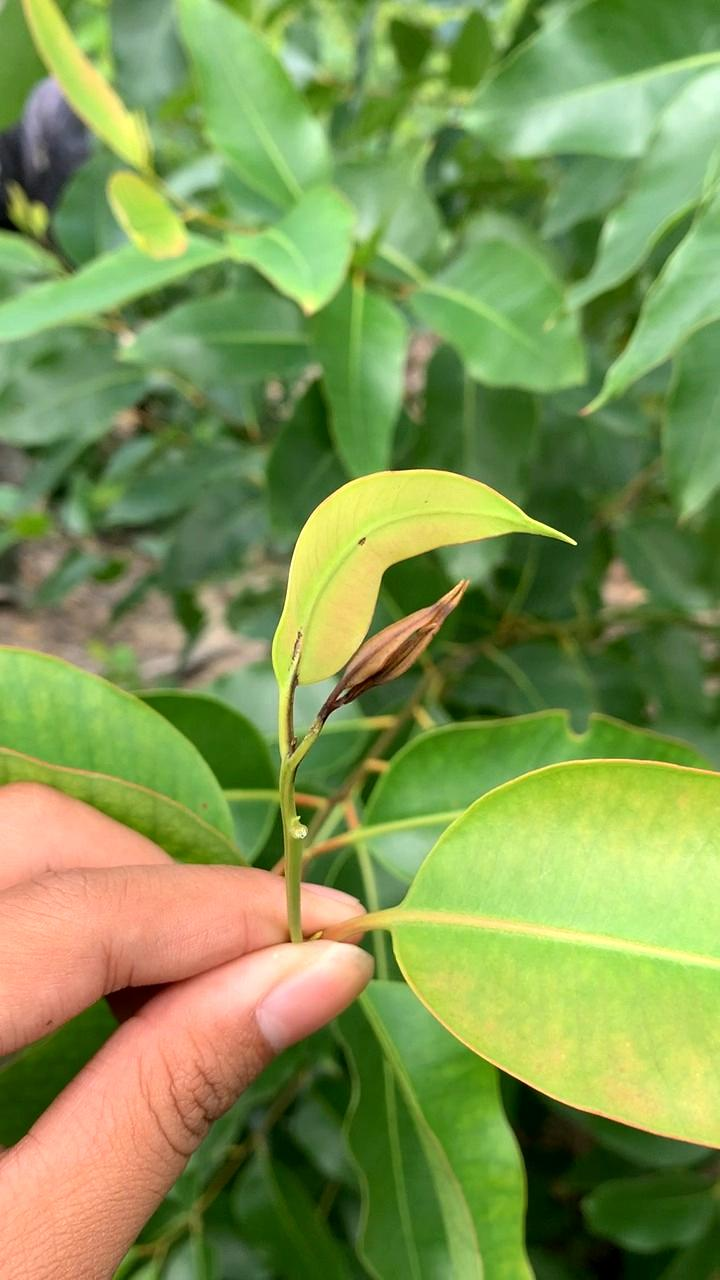Helopeltis-Withered Sprout: (328, 578, 493, 729)
